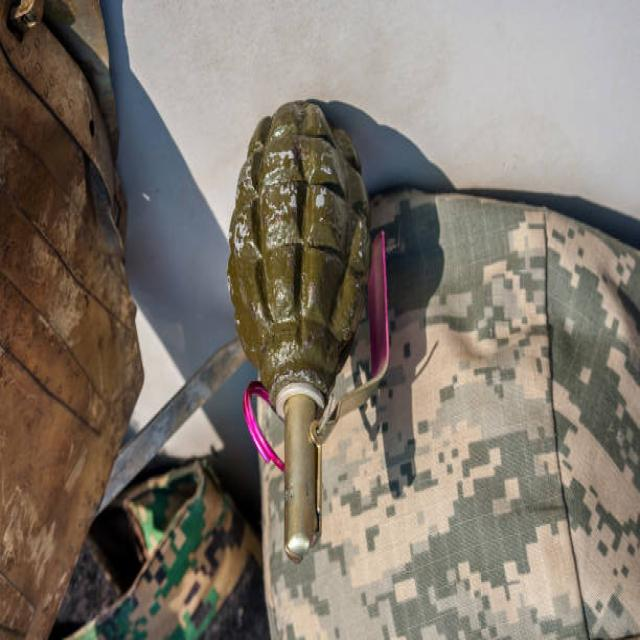grenade: (218, 98, 398, 567)
